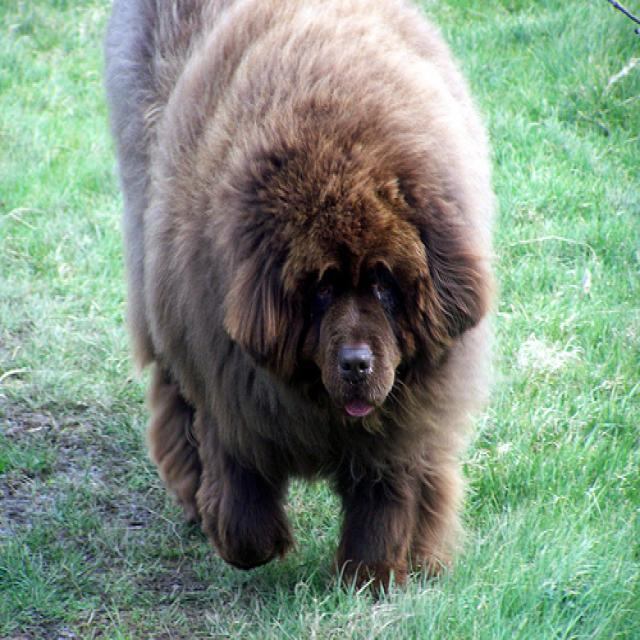dog-newfoundland: (93, 2, 504, 584)
